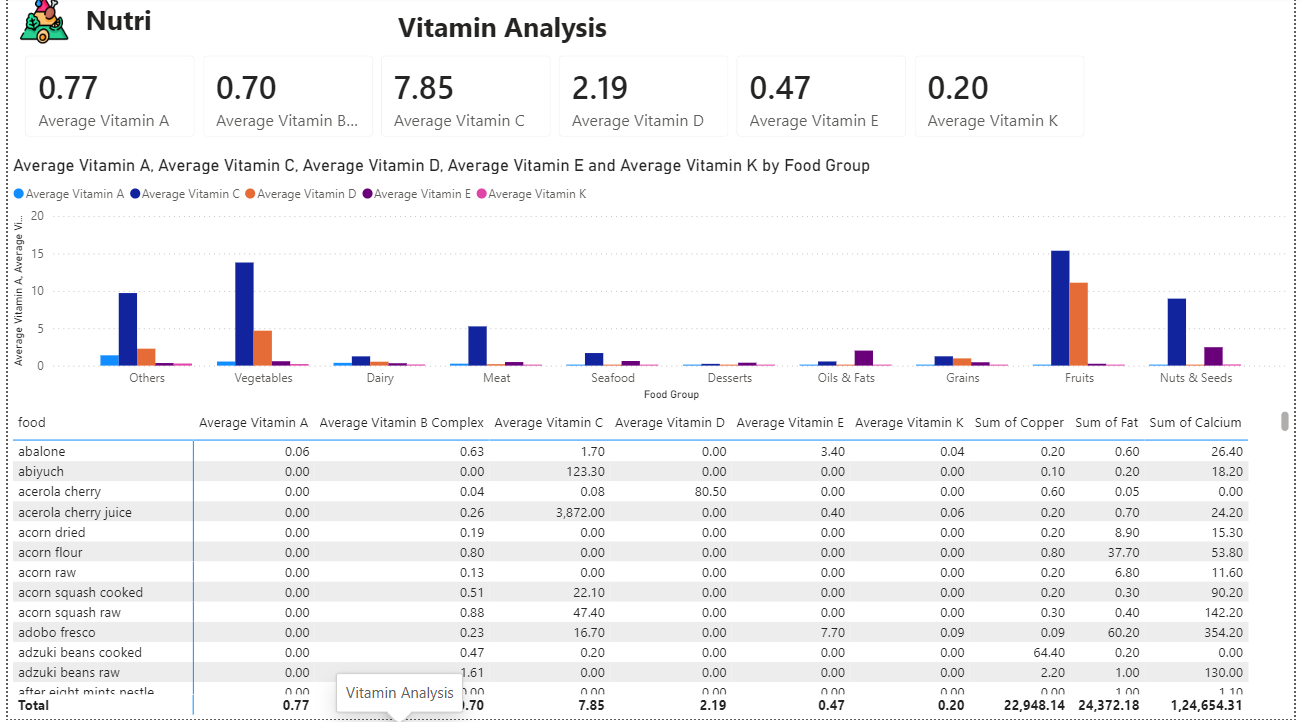

The dashboard page shown, as its layout file describes it:
{"tool":"powerbi","page":{"name":"Vitamin Analysis","canvas":[1280,720],"ordinal":1},"visuals":[{"type":"cardVisual","fields":{"Data":["Food.Average Vitamin A","Food.Average Vitamin B Complex","Food.Average Vitamin C","Food.Average Vitamin D","Food.Average Vitamin E","Food.Average Vitamin K"]},"box":[0,42.9,1088.1,115.3],"z":0},{"type":"pivotTable","fields":{"Rows":["Food.food"],"Values":["Food.Average Vitamin A","Food.Average Vitamin B Complex","Food.Average Vitamin C","Food.Average Vitamin D","Food.Average Vitamin E","Food.Average Vitamin K","Sum(Food.Copper)","Sum(Food.Fat)","Sum(Food.Calcium)"]},"box":[0,408,1280.3,311.9],"z":1000},{"type":"clusteredColumnChart","fields":{"Category":["Food.Food Group"],"Y":["Food.Average Vitamin A","Food.Average Vitamin C","Food.Average Vitamin D","Food.Average Vitamin E","Food.Average Vitamin K"]},"box":[0,158.2,1280.3,249.9],"z":2000},{"type":"textbox","box":[72.1,0,93.3,48.5],"z":3000},{"type":"image","box":[0,0,72.1,48.5],"z":4000},{"type":"textbox","box":[383.1,7.5,257.5,49.8],"z":5000}]}

Visuals, with their boxes in screenshot pixels (x1, y1, x2, y2), scaled from the page's 1280x720 canvas onto the 1302x722 screenshot:
cardVisual - Food.Average Vitamin A x Food.Average Vitamin B Complex: bbox=[0, 43, 1107, 159]
pivotTable - Food.food x Food.Average Vitamin A: bbox=[0, 409, 1301, 721]
clusteredColumnChart - Food.Food Group x Food.Average Vitamin A: bbox=[0, 159, 1301, 409]
textbox: bbox=[73, 0, 168, 49]
image: bbox=[0, 0, 73, 49]
textbox: bbox=[390, 8, 652, 57]
